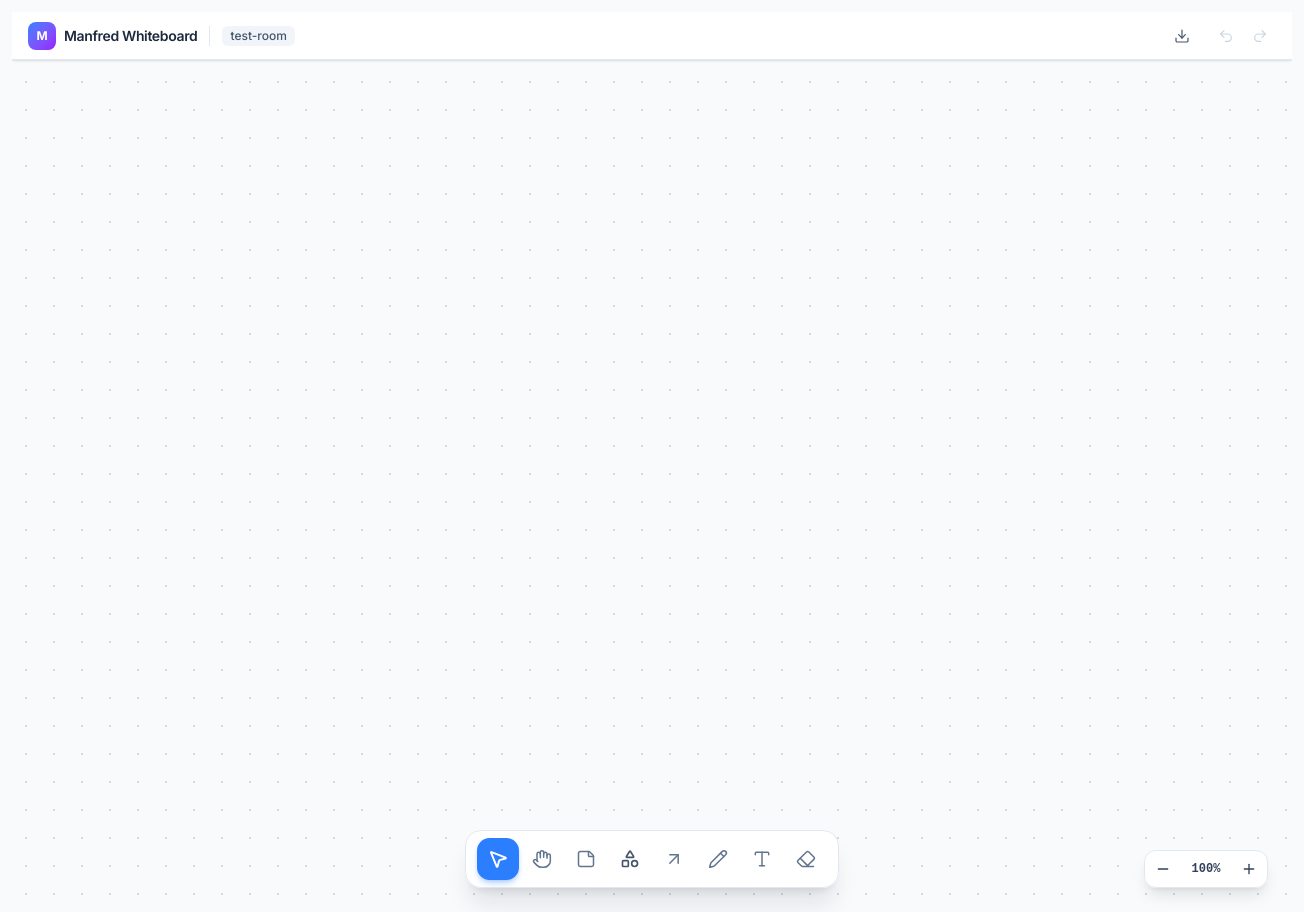
Test case: App › enables undo once something is on the board
Click the button named "Sticky note" at (586, 859), box [566, 839, 606, 879]
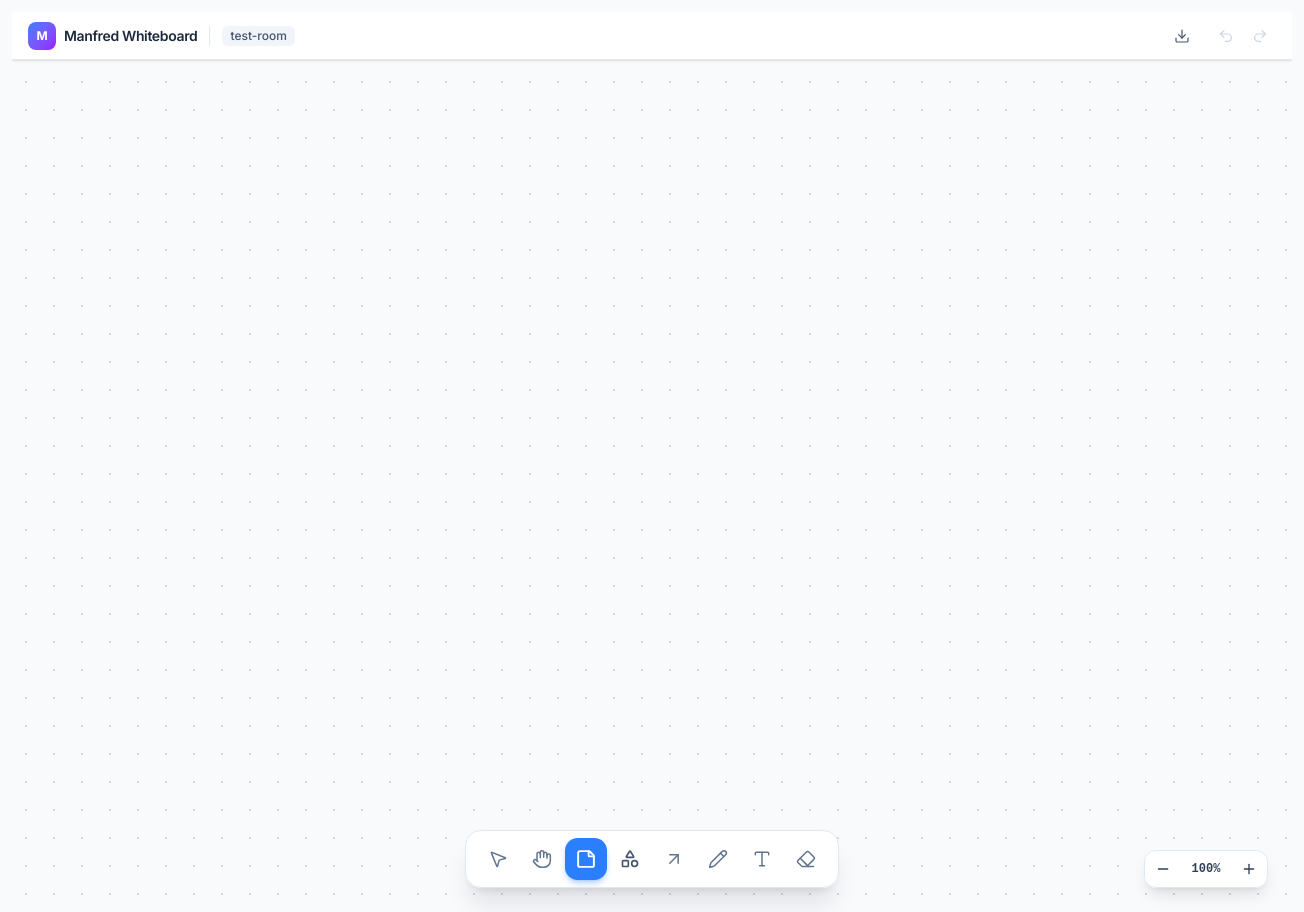
Press the mouse on the element named "Interactive canvas workspace" at (652, 462), box [12, 12, 1292, 911]
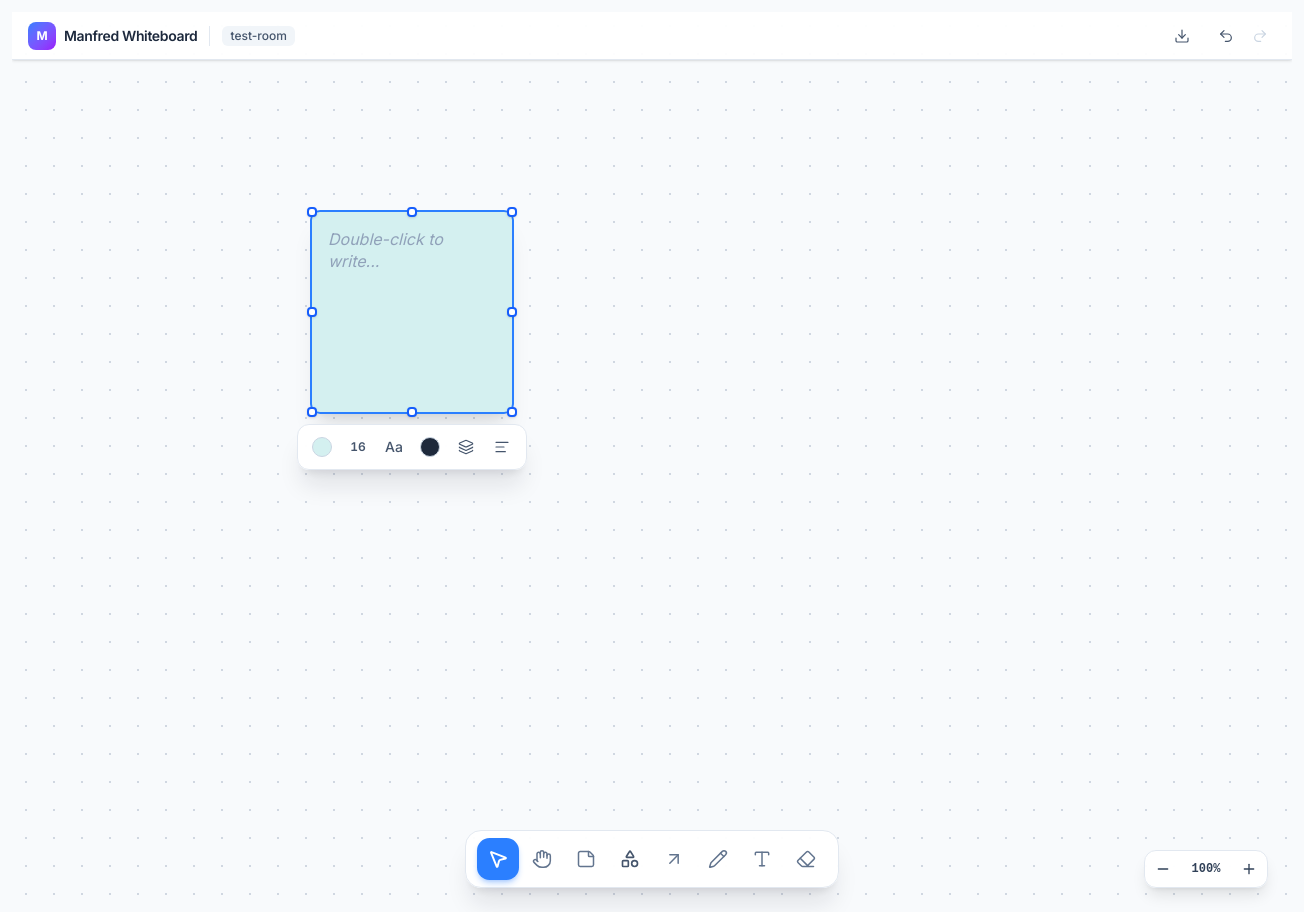
Check: the button named "Redo" is disabled, box [1244, 20, 1276, 52]
Check: the button named "Undo" is enabled, box [1210, 20, 1242, 52]
